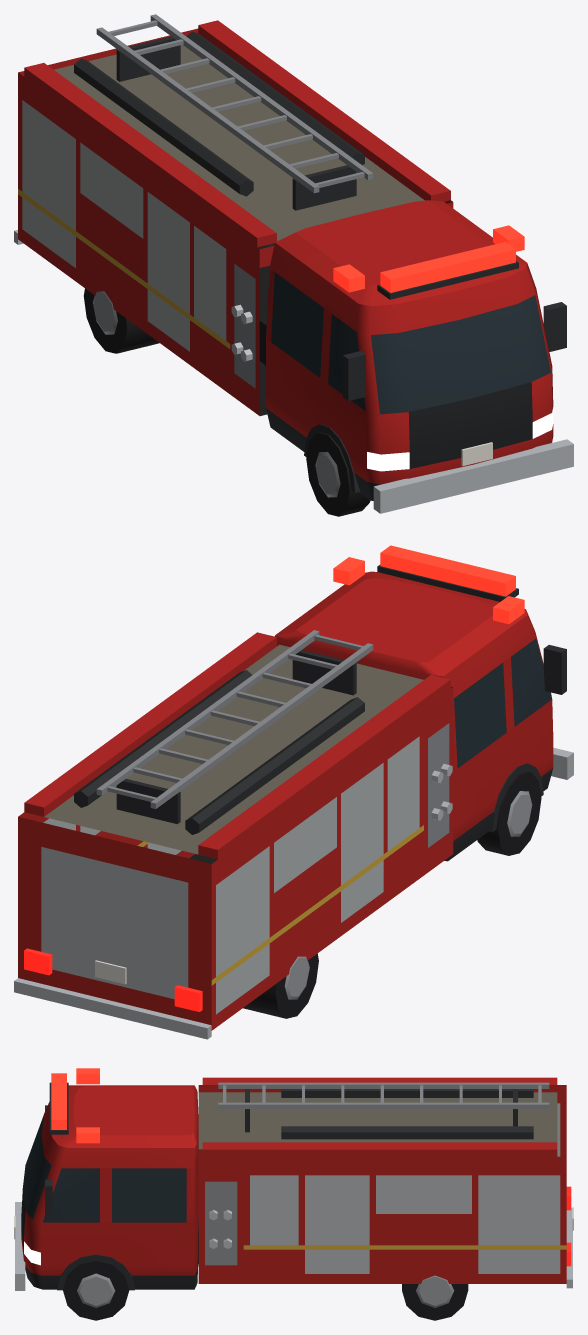
Rendered from tokyo_fire_engine.glb.
The picture shows the model from 3 angles, top to bottom: view 1: azimuth 30°, elevation 25°; view 2: azimuth 150°, elevation 25°; view 3: azimuth 270°, elevation 25°; orthographic projection. The views are drawn at different scales.
Parts seen in each view (by area): view 1: tokyo_fire_engine; view 2: tokyo_fire_engine; view 3: tokyo_fire_engine.
Part boxes in pixels (bbox=[...]): tokyo_fire_engine: bbox=[14, 14, 573, 516]; tokyo_fire_engine: bbox=[14, 545, 573, 1039]; tokyo_fire_engine: bbox=[14, 1068, 573, 1320].
Bounding box in the file's own units: 2.44 × 2.68 × 7.1.
1 material, 1 textured.
